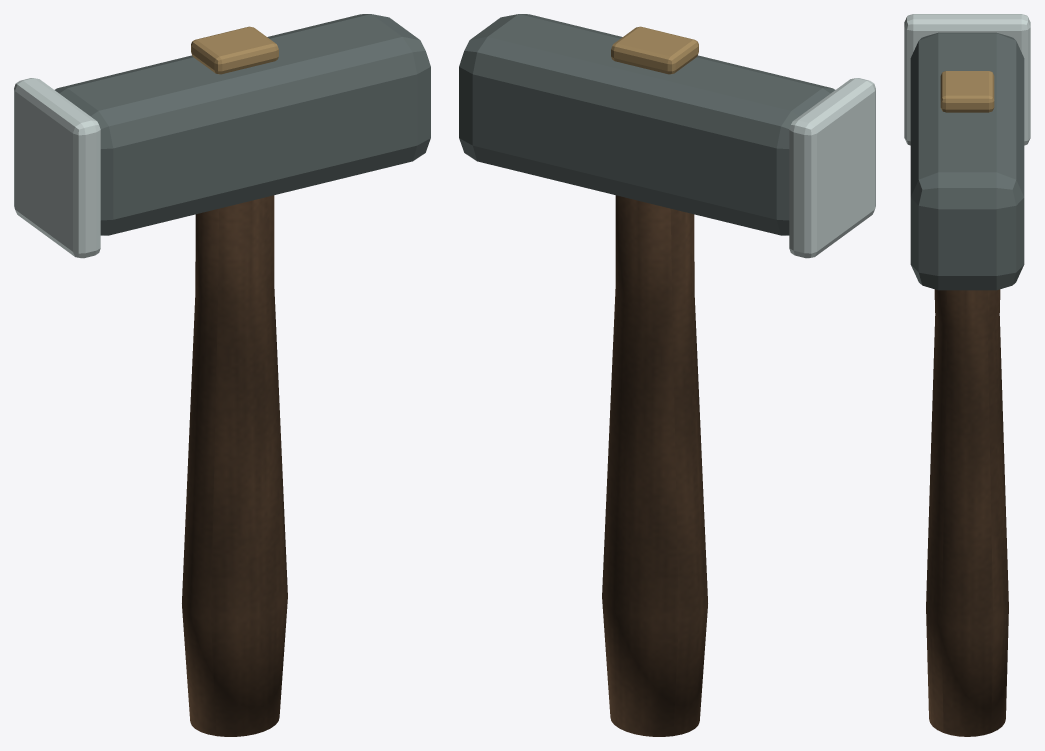
The model's file is hammer.glb.
The picture shows the model from 3 angles, left to right: view 1: azimuth 30°, elevation 25°; view 2: azimuth 150°, elevation 25°; view 3: azimuth 270°, elevation 25°; orthographic projection. The views are drawn at different scales.
Parts seen in each view (by area): view 1: Part_Blackened iron.002, Part_Oak cut edge.002, Part_Steel.001, Part_Aged brass.003; view 2: Part_Blackened iron.002, Part_Oak cut edge.002, Part_Steel.001, Part_Aged brass.003; view 3: Part_Oak cut edge.002, Part_Blackened iron.002, Part_Steel.001, Part_Aged brass.003.
Boxes of the visible parts, box(x1,y1,x2,y2) form: Part_Blackened iron.002: box(55, 14, 430, 235); Part_Oak cut edge.002: box(182, 195, 287, 736); Part_Steel.001: box(14, 78, 100, 258); Part_Aged brass.003: box(191, 26, 278, 74); Part_Blackened iron.002: box(459, 14, 834, 235); Part_Oak cut edge.002: box(602, 195, 707, 736); Part_Steel.001: box(789, 78, 875, 258); Part_Aged brass.003: box(611, 26, 698, 74); Part_Oak cut edge.002: box(926, 289, 1008, 736); Part_Blackened iron.002: box(910, 32, 1024, 290); Part_Steel.001: box(904, 14, 1030, 145); Part_Aged brass.003: box(940, 71, 994, 112).
Bounding box in the file's own units: 0.2595 × 0.456 × 0.082.
Materials: 4 (1 with a texture image).
